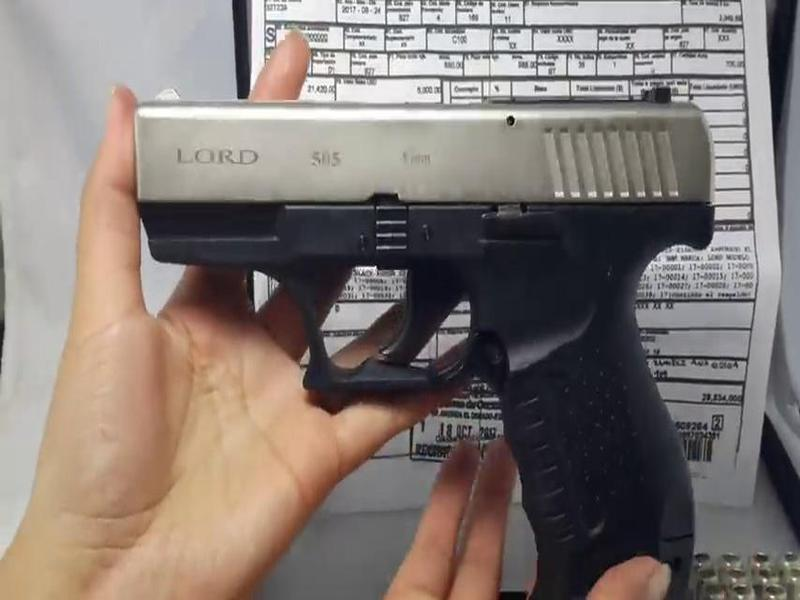Pistola: (118, 34, 717, 577)
